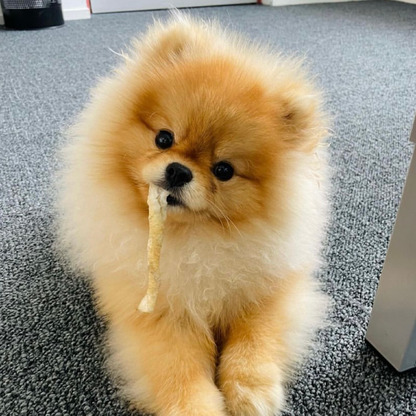Pomeranian: (63, 11, 341, 400)
